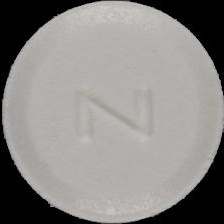50090-0514: (0, 0, 224, 224)
